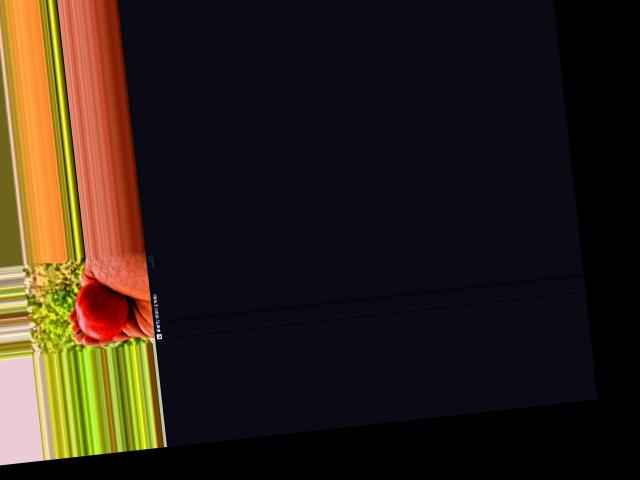tomato: (73, 278, 131, 341)
